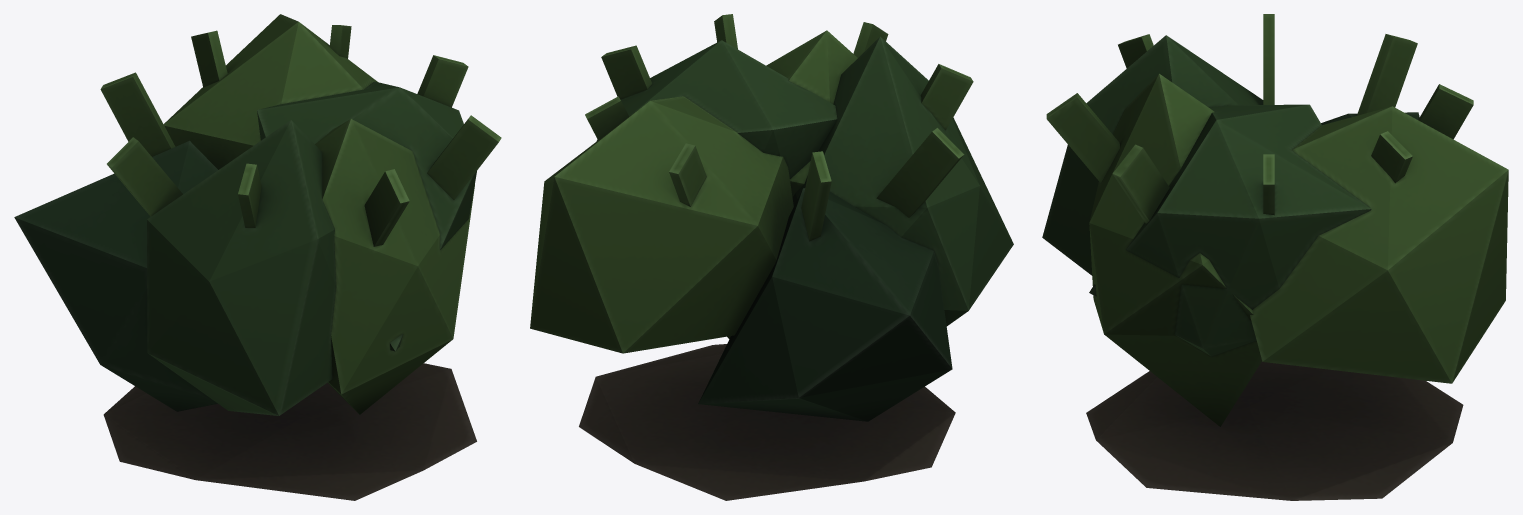
Rendered from obj_bush.glb.
3 renders of one model, left to right at view 1: azimuth 30°, elevation 25°; view 2: azimuth 150°, elevation 25°; view 3: azimuth 270°, elevation 25°, orthographic. The views are drawn at different scales.
Parts seen in each view (by area): view 1: obj_bush; view 2: obj_bush; view 3: obj_bush.
Boxes of the visible parts, x1,y1,x2,y2 form: obj_bush: [14, 14, 501, 500]; obj_bush: [530, 14, 1013, 500]; obj_bush: [1042, 14, 1508, 500].
Bounding box in the file's own units: 0.8033 × 0.7404 × 0.838.
1 material, 1 textured.
